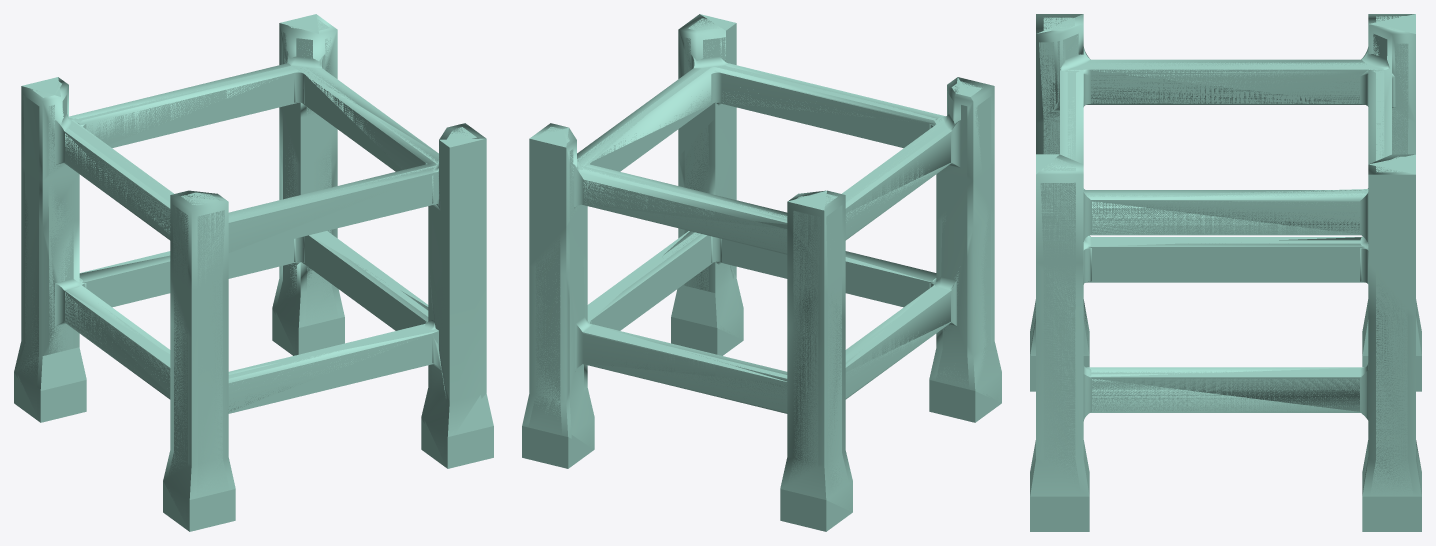
The model's file is space-kit__supports_high.glb.
The picture shows the model from 3 angles, left to right: view 1: azimuth 30°, elevation 25°; view 2: azimuth 150°, elevation 25°; view 3: azimuth 270°, elevation 25°; orthographic projection. The views are drawn at different scales.
Visible parts, largest first — view 1: L0_accent, L1_accent; view 2: L0_accent, L1_accent; view 3: L1_accent, L0_accent.
Boxes of the visible parts, x1,y1,x2,y2 form: L0_accent: (17, 18, 482, 525); L1_accent: (14, 14, 493, 531); L0_accent: (528, 18, 998, 525); L1_accent: (522, 14, 1001, 531); L1_accent: (1030, 14, 1421, 531); L0_accent: (1030, 16, 1421, 526).
Size of the model in its own units: 1 by 1 by 1.
